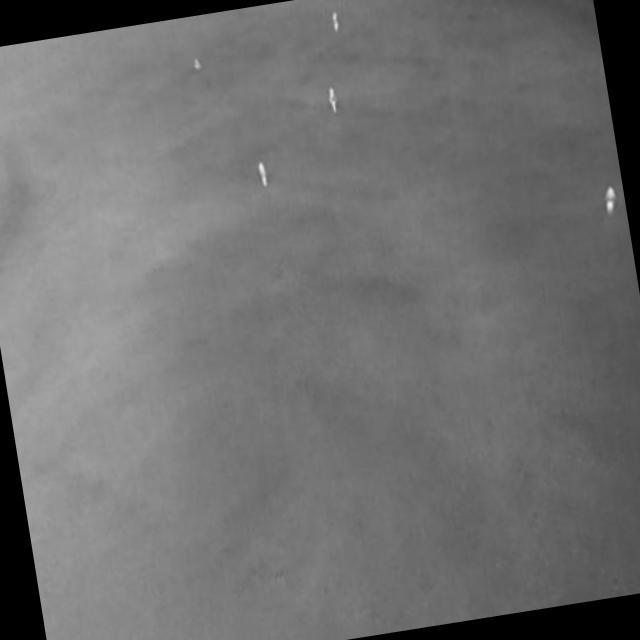person: (602, 184, 619, 218), (257, 160, 270, 189), (328, 88, 340, 116), (332, 12, 341, 33), (193, 56, 203, 72)
